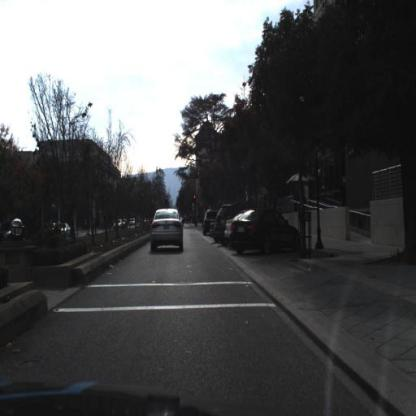car: (230, 208, 303, 257), (232, 206, 300, 255), (146, 202, 188, 259), (215, 202, 243, 247), (215, 203, 231, 239), (202, 208, 214, 244), (224, 214, 236, 245), (58, 222, 72, 240)
